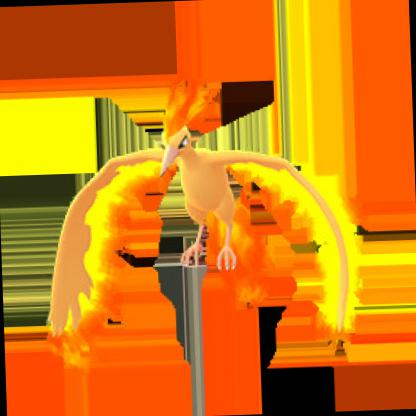Moltres: (1, 1, 416, 384)
